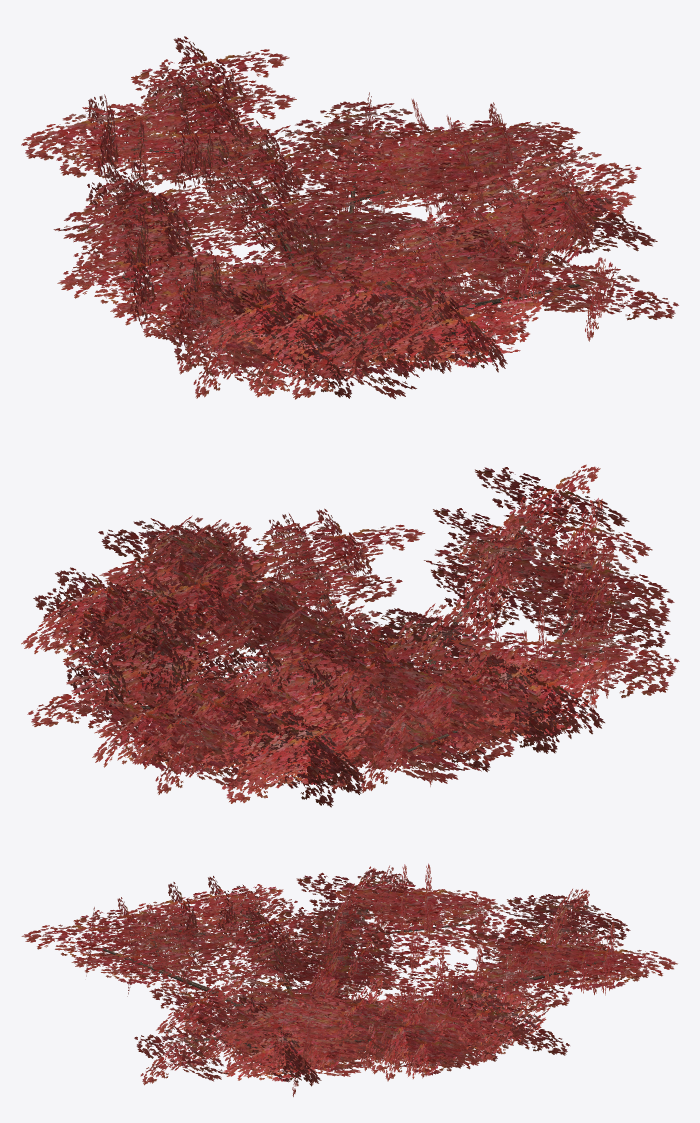
The model's file is bush_3d_04_red_lod0.glb.
The picture shows the model from 3 angles, top to bottom: view 1: azimuth 30°, elevation 25°; view 2: azimuth 150°, elevation 25°; view 3: azimuth 270°, elevation 25°; orthographic projection. The views are drawn at different scales.
Parts seen in each view (by area): view 1: foliage_cards, wood_geometry; view 2: foliage_cards, wood_geometry; view 3: foliage_cards, wood_geometry.
Part boxes in pixels (bbox=[...]): foliage_cards: bbox=[21, 36, 678, 399]; wood_geometry: bbox=[109, 84, 580, 344]; foliage_cards: bbox=[21, 464, 679, 807]; wood_geometry: bbox=[126, 514, 614, 751]; foliage_cards: bbox=[21, 863, 677, 1096]; wood_geometry: bbox=[102, 899, 604, 1061].
Size of the model in its own units: 2.79 by 0.816 by 3.7.
2 materials, 2 textured.
